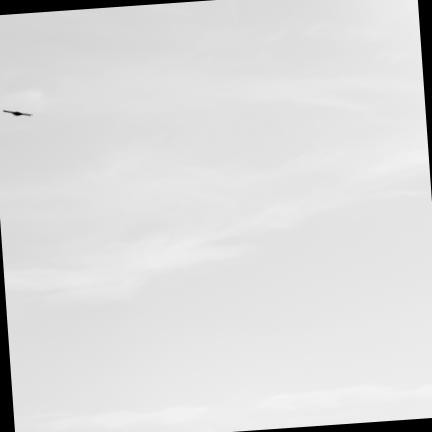Shahed: (2, 108, 34, 116)
